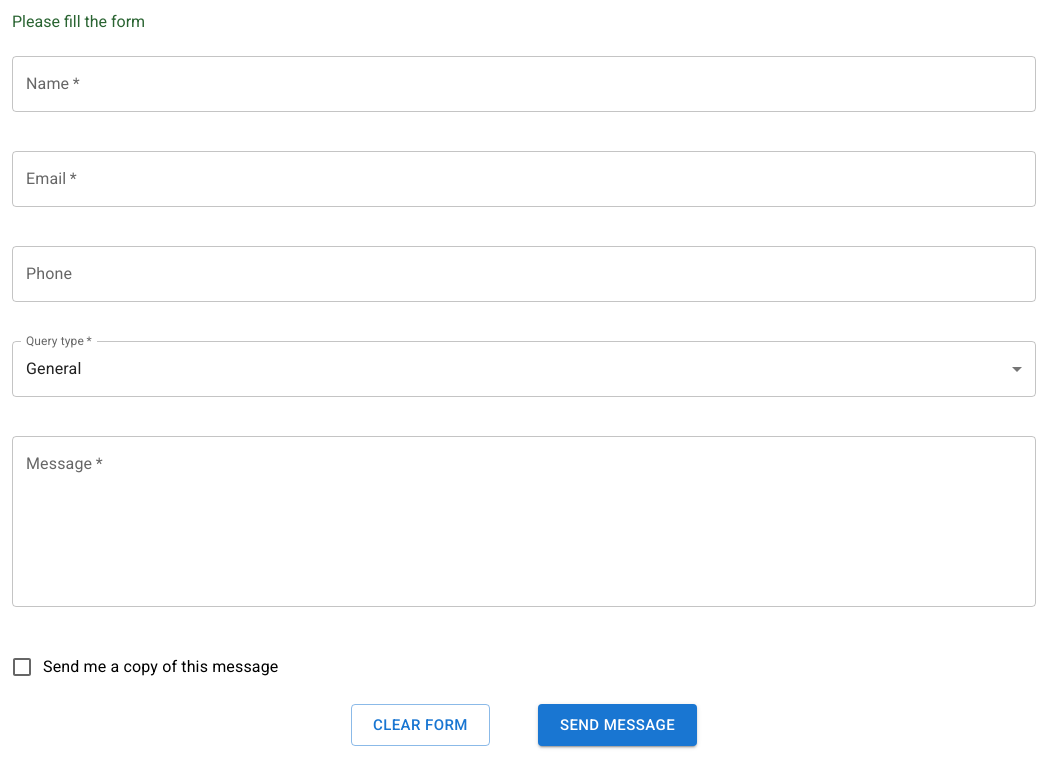
Test: ContactForm › reset › resets the name field
Step 1. Type "Jane Smith" into the field labelled "Name *" → (524, 84), box [12,56,1036,112]
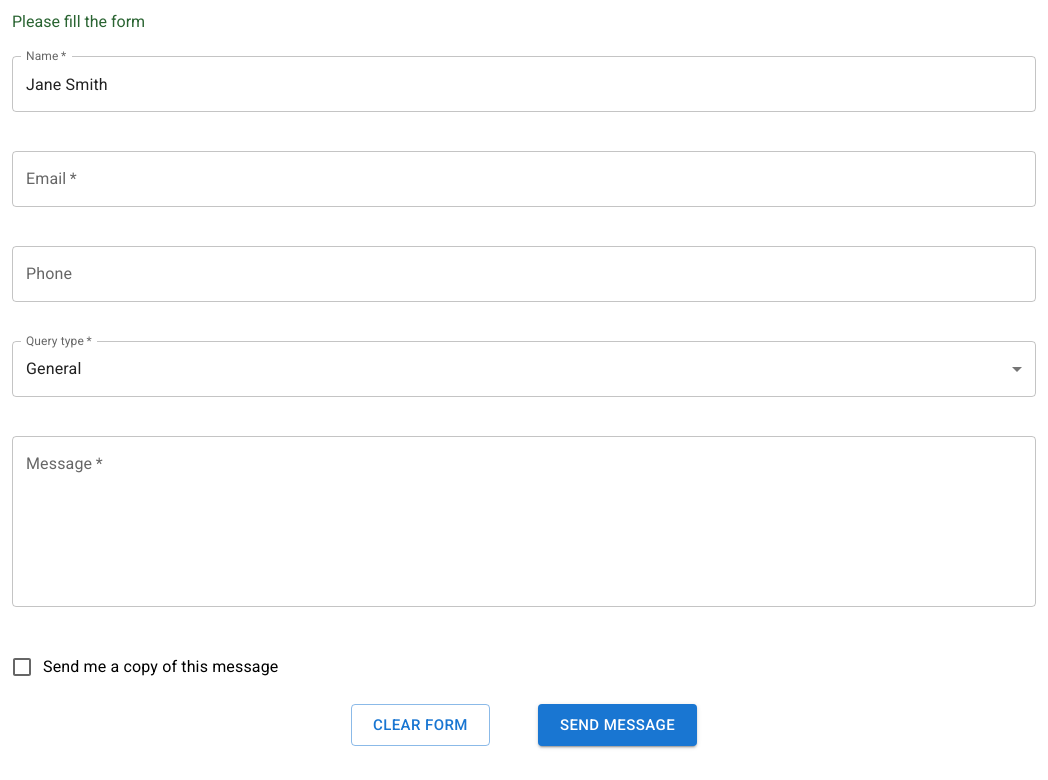
Step 2. Click the button with test id "contact-form-reset-button" → (420, 725), box [351,704,490,746]
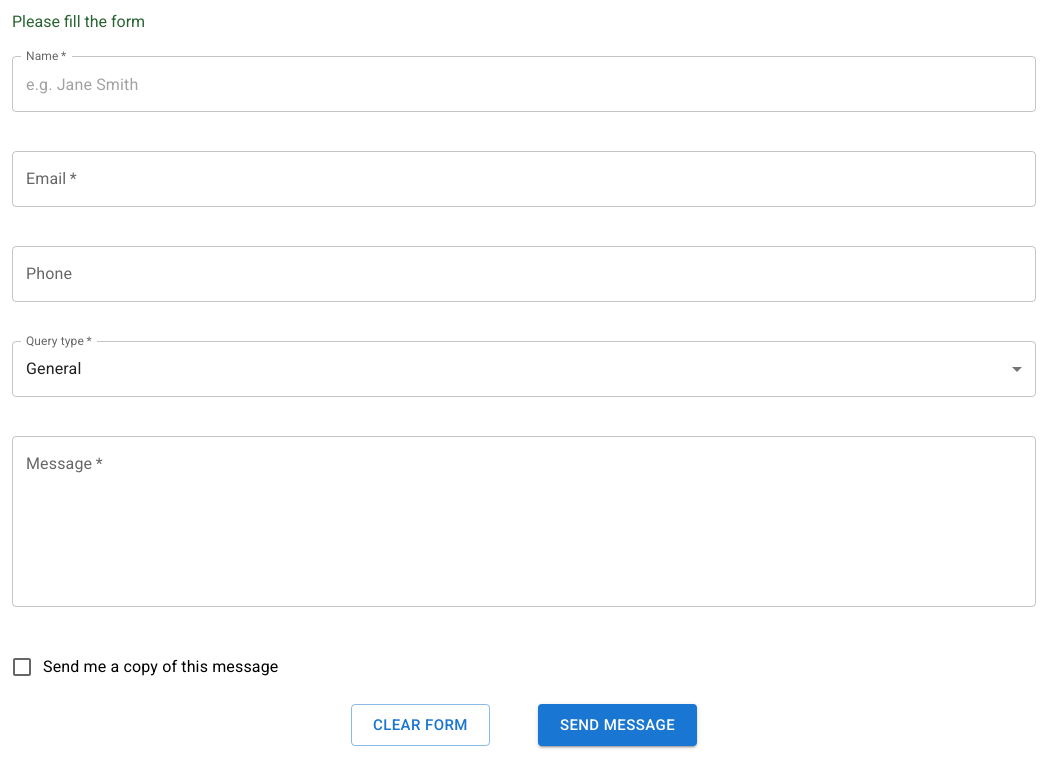
Check: the field labelled "Name *" is empty, box [12,56,1036,112]
